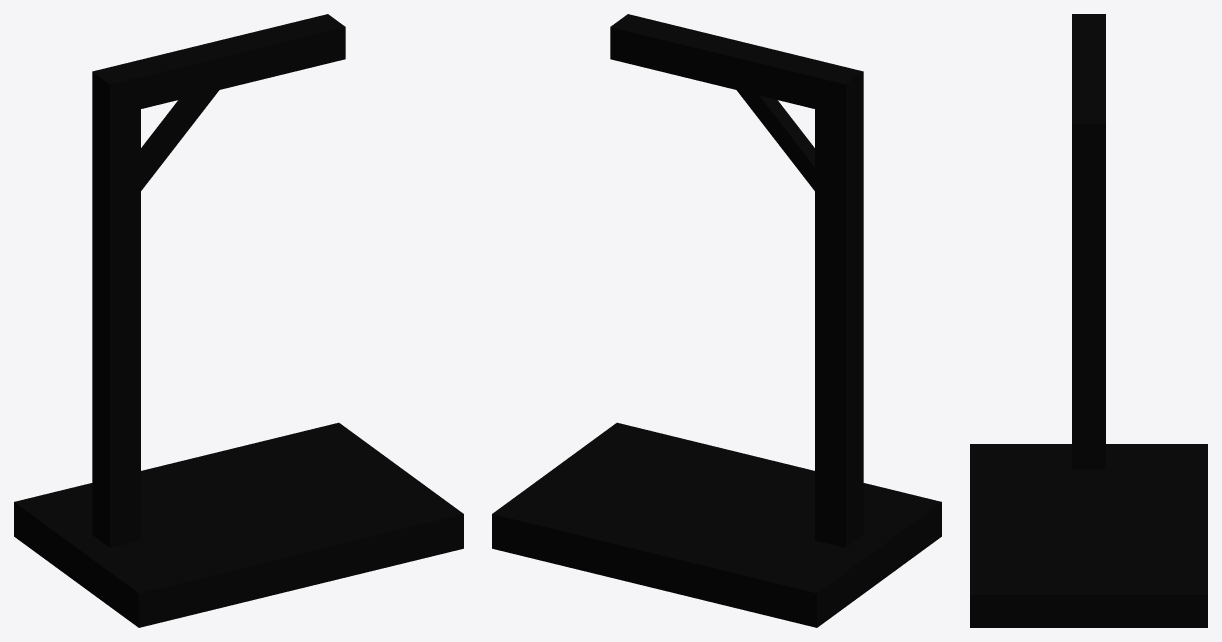
Rendered from stand.glb.
3 views of the same model, side by side, from view 1: azimuth 30°, elevation 25°; view 2: azimuth 150°, elevation 25°; view 3: azimuth 270°, elevation 25° (orthographic). The views are drawn at different scales.
Visible parts, largest first — view 1: Stand; view 2: Stand; view 3: Stand.
Part boxes in pixels (x1,y1,x2,y2): Stand: [14, 14, 463, 627]; Stand: [492, 14, 941, 627]; Stand: [970, 14, 1207, 627].
Size of what is drawn, in the model's own units: 3.01 by 4.4 by 2.
Materials: 1 (1 with a texture image).
